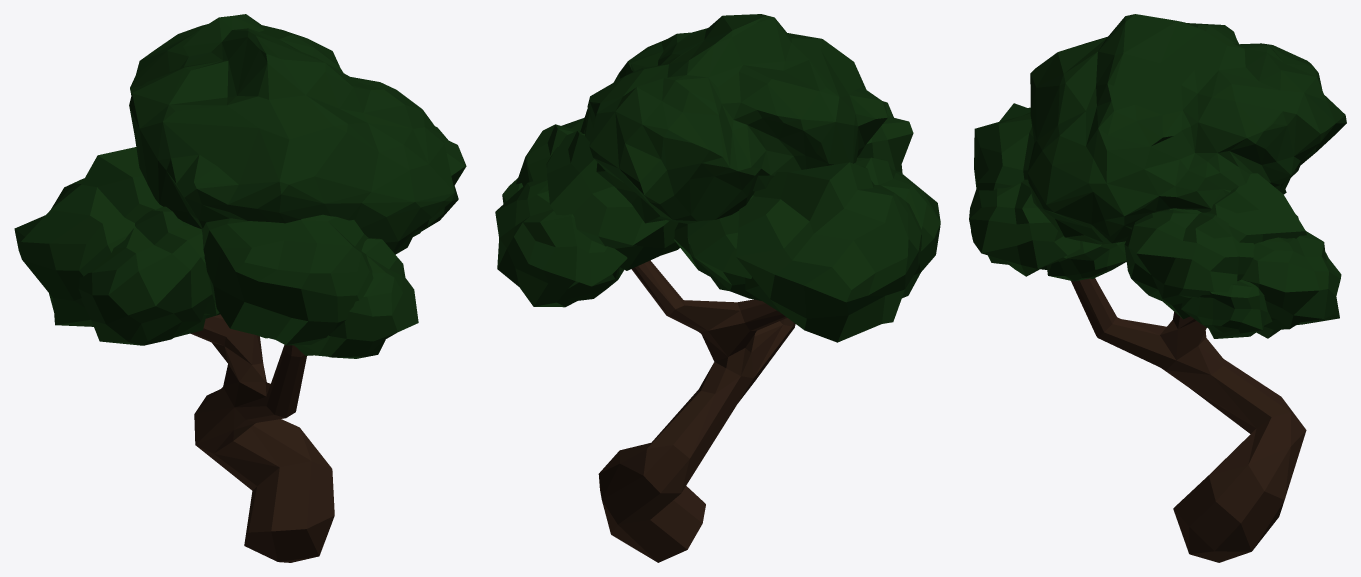
The model's file is tree3.obj.
The picture shows the model from 3 angles, left to right: view 1: azimuth 30°, elevation 25°; view 2: azimuth 150°, elevation 25°; view 3: azimuth 270°, elevation 25°; orthographic projection. The views are drawn at different scales.
Visible parts, largest first — view 1: tree_6_Plane.005; view 2: tree_6_Plane.005; view 3: tree_6_Plane.005.
Boxes of the visible parts, x1,y1,x2,y2 form: tree_6_Plane.005: (14,14,466,562); tree_6_Plane.005: (495,14,940,562); tree_6_Plane.005: (969,14,1346,562).
Bounding box in the file's own units: 4.79 × 6.03 × 3.99.
